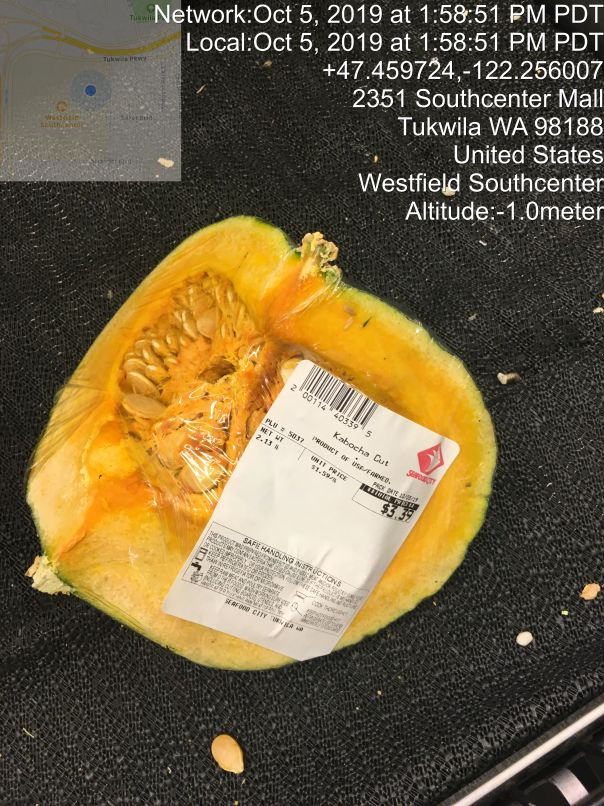Kabocha cut: (34, 175, 510, 725)
Label: (215, 334, 449, 676)
Location: (346, 82, 603, 199)
Time: (136, 1, 602, 55)
